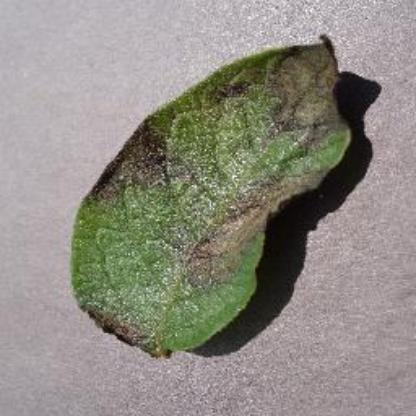Late-Blight: (69, 28, 356, 362)
